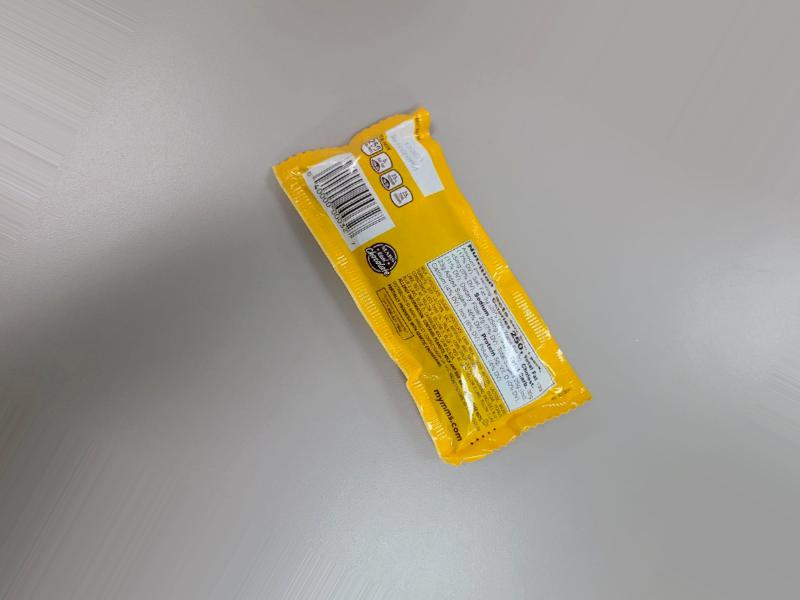m&m: (250, 77, 567, 494)
